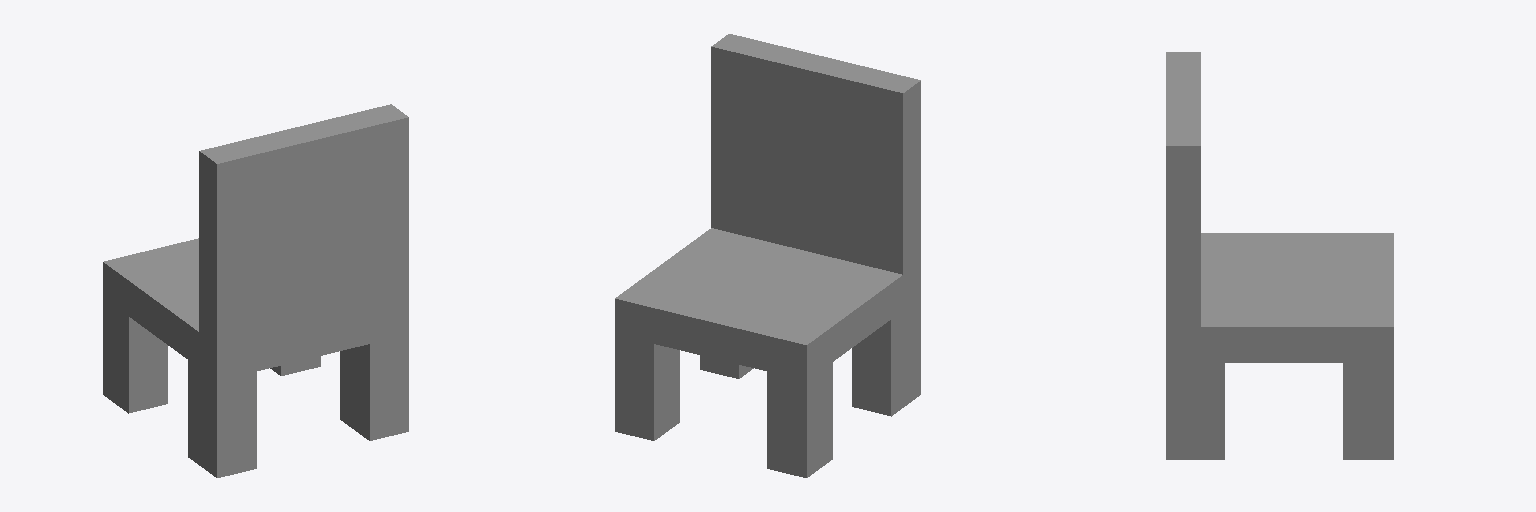
Rendered from FM_chair.obj.
The picture shows the model from 3 angles: view 1: azimuth 30°, elevation 25°; view 2: azimuth 150°, elevation 25°; view 3: azimuth 270°, elevation 25°; orthographic projection.
Parts seen in each view (by area): view 1: Cube_Cube.001; view 2: Cube_Cube.001; view 3: Cube_Cube.001.
Part boxes in pixels (x1,y1,x2,y2): Cube_Cube.001: (103, 104, 408, 477); Cube_Cube.001: (615, 34, 920, 477); Cube_Cube.001: (1166, 52, 1393, 459).
Bounding box in the file's own units: 0.8259 × 1.29 × 0.8524.